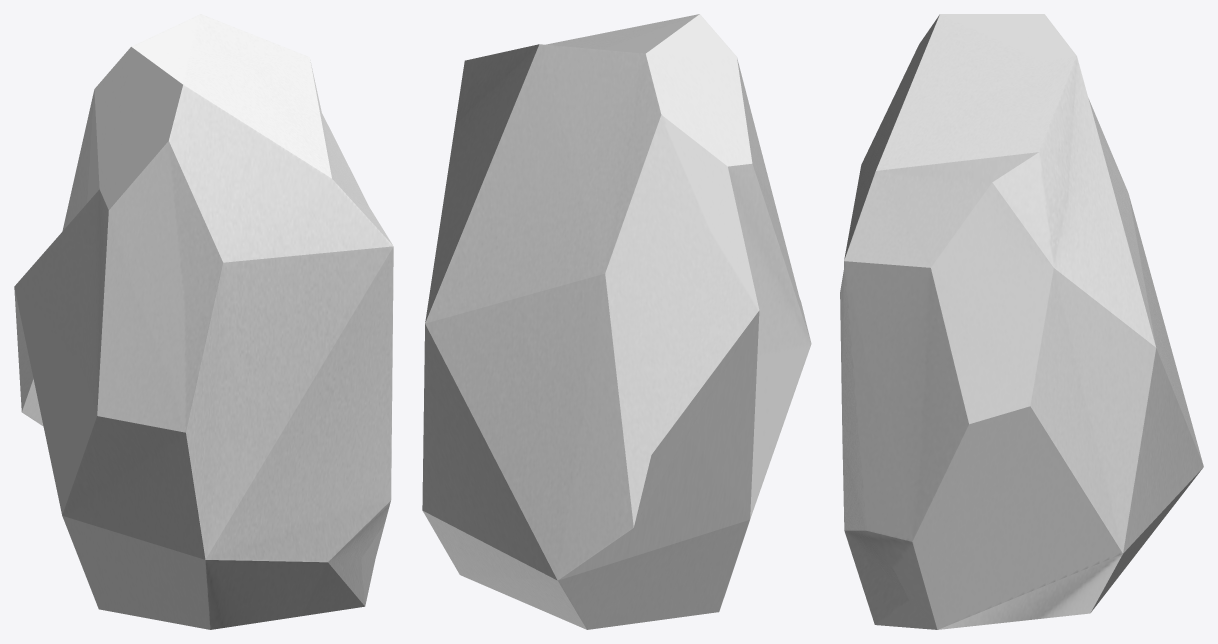
Rendered from Piedra2.fbx.
3 views of the same model, side by side, from view 1: azimuth 30°, elevation 25°; view 2: azimuth 150°, elevation 25°; view 3: azimuth 270°, elevation 25° (orthographic). The views are drawn at different scales.
Parts seen in each view (by area): view 1: Piedra2; view 2: Piedra2; view 3: Piedra2.
Part boxes in pixels (box(x1,y1,x2,y2)): Piedra2: box(14, 14, 393, 629); Piedra2: box(422, 14, 811, 629); Piedra2: box(840, 14, 1203, 629).
Size of the model in its own units: 168 by 256 by 157.
1 material, 1 textured.
